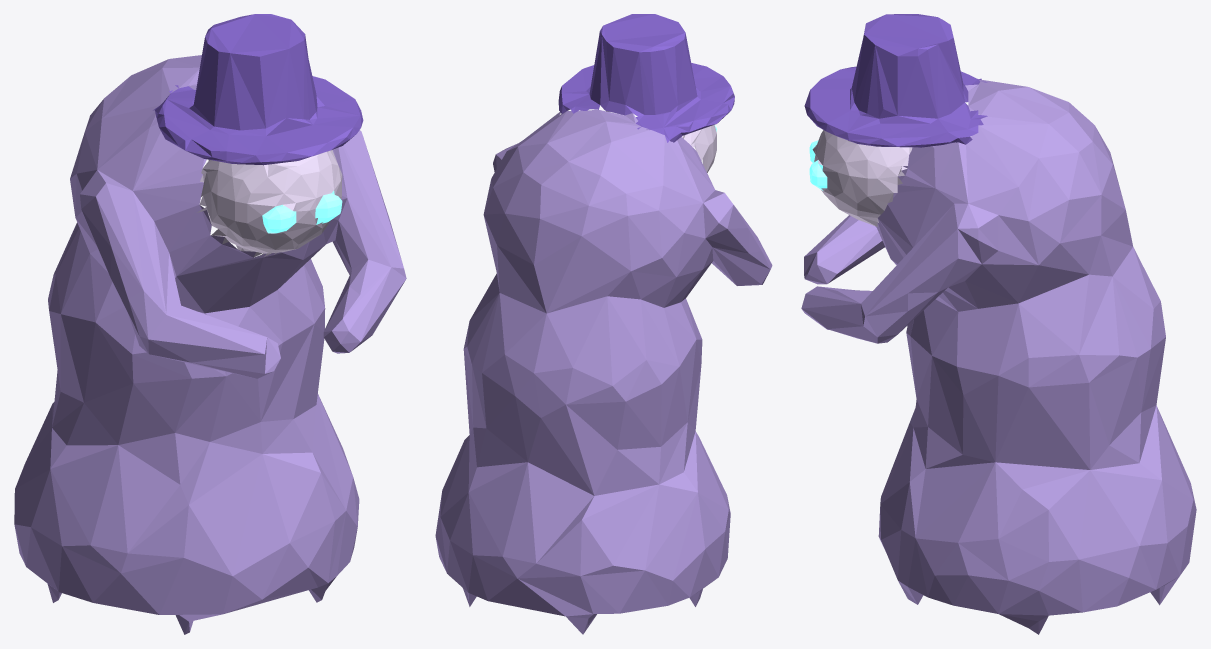
Rendered from spirit_digger.glb.
3 renders of one model, left to right at view 1: azimuth 30°, elevation 25°; view 2: azimuth 150°, elevation 25°; view 3: azimuth 270°, elevation 25°, orthographic. The views are drawn at different scales.
Visible parts, largest first — view 1: spirit_digger; view 2: spirit_digger; view 3: spirit_digger.
Part boxes in pixels (x1,y1,x2,y2): spirit_digger: [14, 14, 406, 634]; spirit_digger: [435, 14, 772, 634]; spirit_digger: [801, 14, 1196, 634].
Bounding box in the file's own units: 0.8214 × 1.55 × 1.02.
